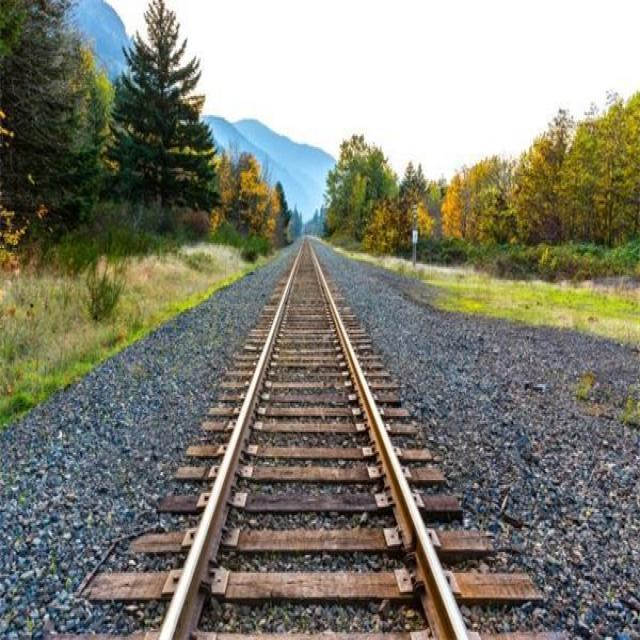rail-track: (45, 241, 561, 639)
